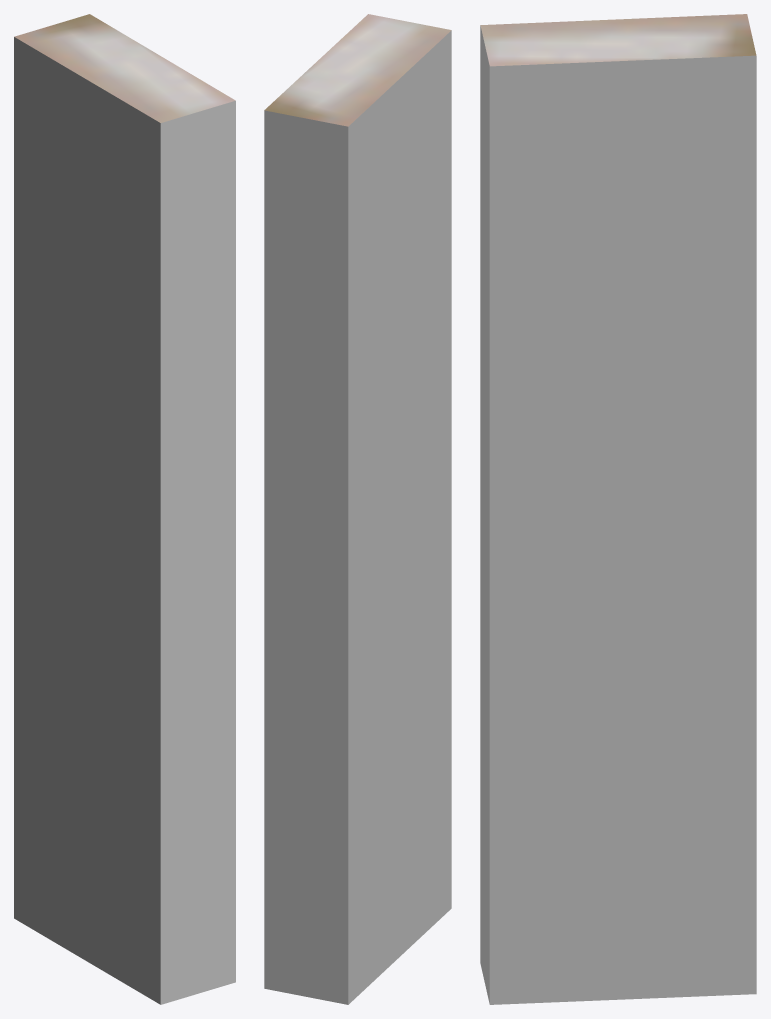
Rendered from DEBW_0010007THWX.gltf.
3 views of the same model, side by side, from view 1: azimuth 30°, elevation 25°; view 2: azimuth 150°, elevation 25°; view 3: azimuth 270°, elevation 25° (orthographic). The views are drawn at different scales.
Parts seen in each view (by area): view 1: Z_UP; view 2: Z_UP; view 3: Z_UP.
Boxes of the visible parts, bbox=[...] form: Z_UP: bbox=[14, 14, 235, 1004]; Z_UP: bbox=[264, 14, 451, 1004]; Z_UP: bbox=[480, 14, 756, 1004].
Bounding box in the file's own units: 1.6 × 13.36 × 3.56.
2 materials, 1 textured.
